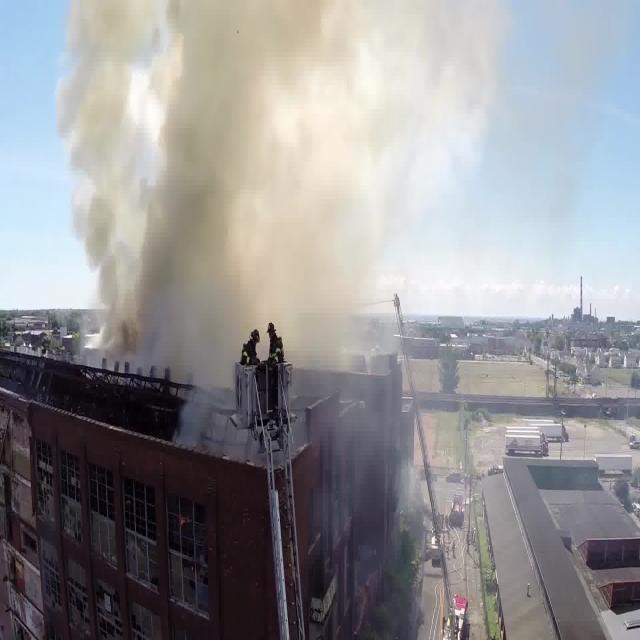Smoke: (98, 14, 380, 318)
